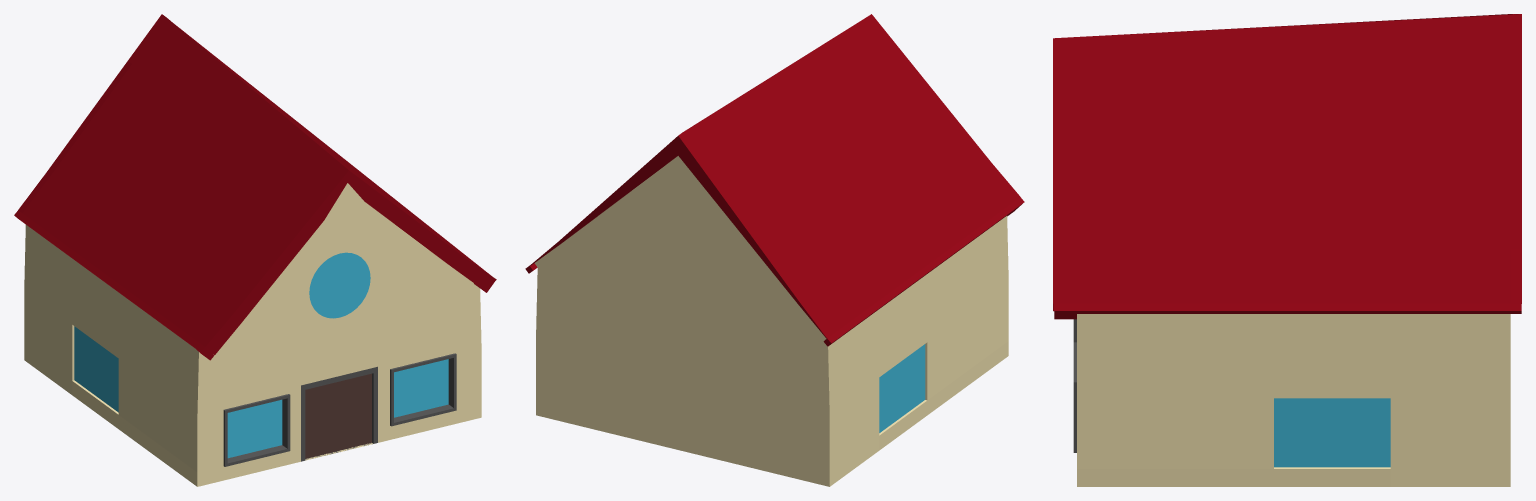
Rendered from HypeMediumHuis.fbx.
3 renders of one model, left to right at view 1: azimuth 30°, elevation 25°; view 2: azimuth 150°, elevation 25°; view 3: azimuth 270°, elevation 25°, orthographic. The views are drawn at different scales.
Visible parts, largest first — view 1: Cube, Circle; view 2: Cube; view 3: Cube.
Part boxes in pixels (x1,y1,x2,y2): Cube: (14, 14, 496, 486); Circle: (309, 252, 370, 318); Cube: (525, 14, 1024, 486); Cube: (1053, 14, 1521, 486).
Size of the model in its own units: 435 by 433 by 476.
